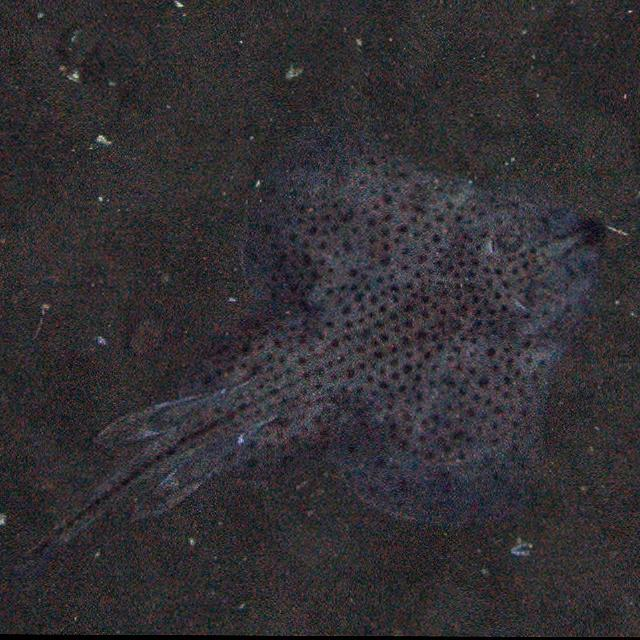skate: (67, 127, 612, 532)
